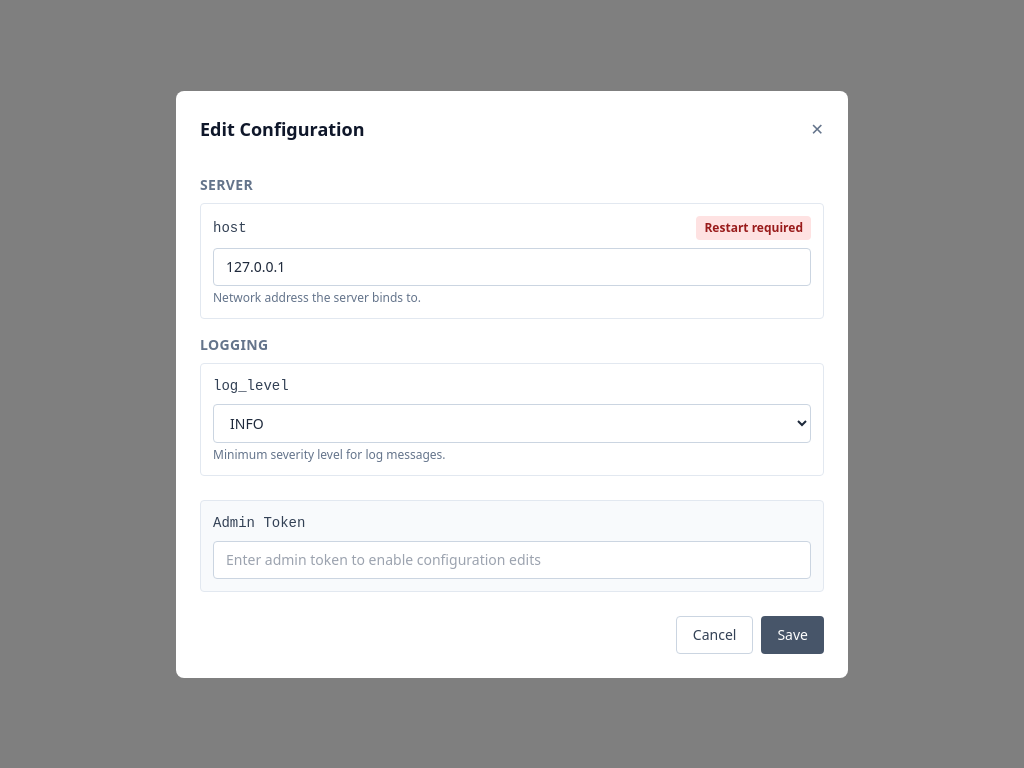
Scenario: ConfigModal › surfaces a 400 validation error inline
Check: the field showing "127.0.0.1" is shown, box x1=213 y1=248 x2=811 y2=286
Step 1. Click the button "Save" → (793, 634), box x1=761 y1=616 x2=824 y2=654
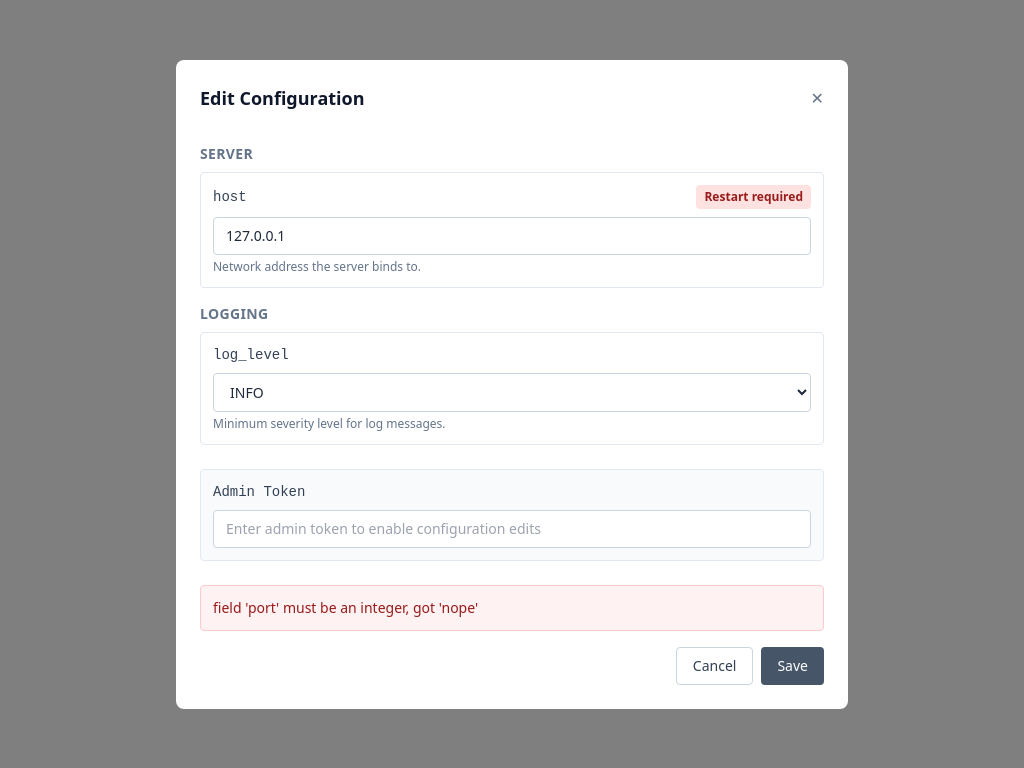
Check: the text "field 'port' must be an integer, got 'nope'" is shown, box x1=200 y1=584 x2=824 y2=630
